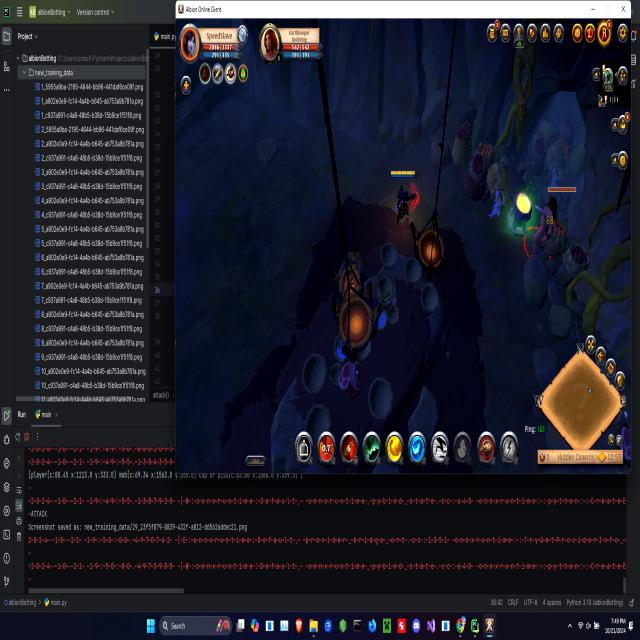fiber: (508, 188, 532, 244)
ore: (523, 178, 581, 262)
red: (390, 165, 420, 225)
